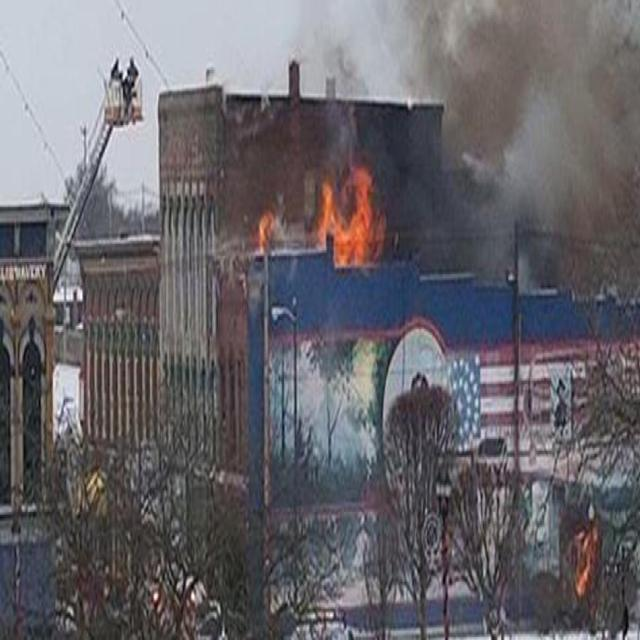Fire: (255, 150, 394, 276)
